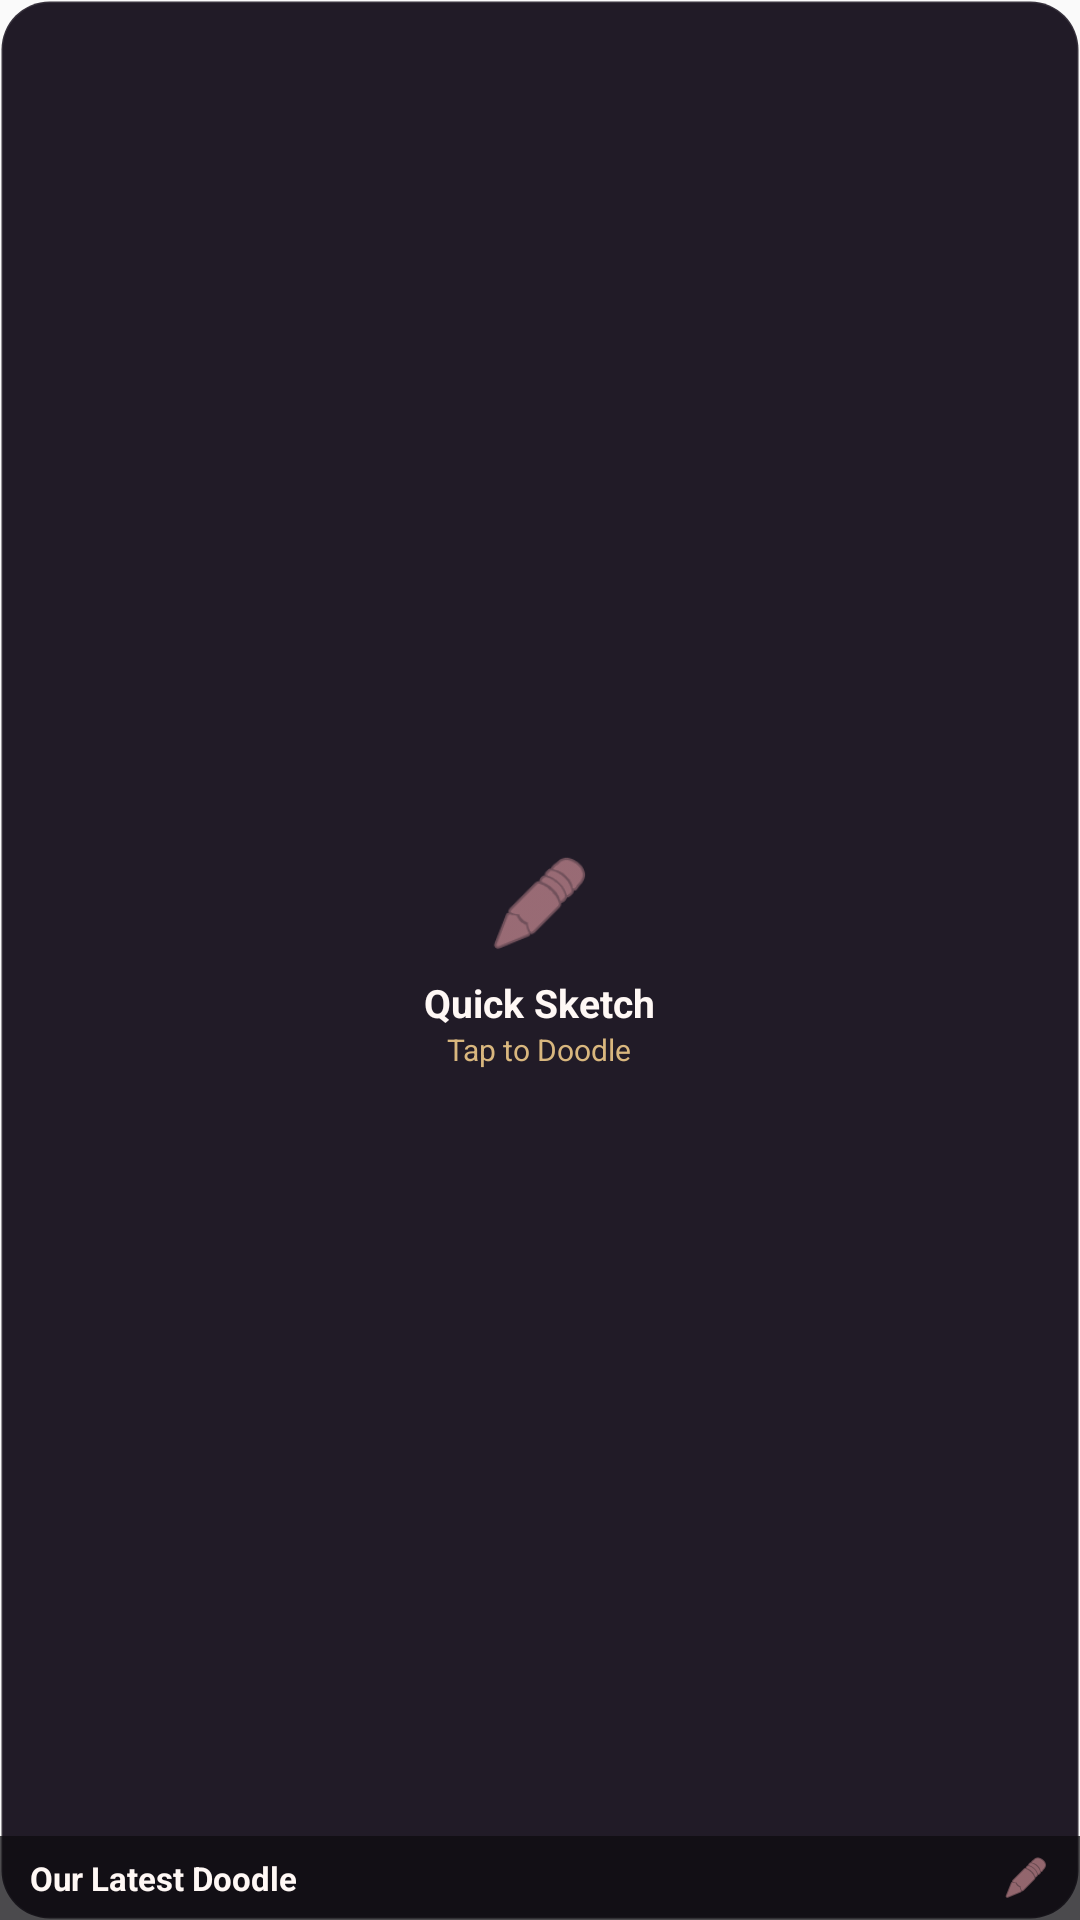

Icons on this 1080px×1920px Android screen, each with the point to tap as [x,y]:
edit: [539,903], [1026,1877]
